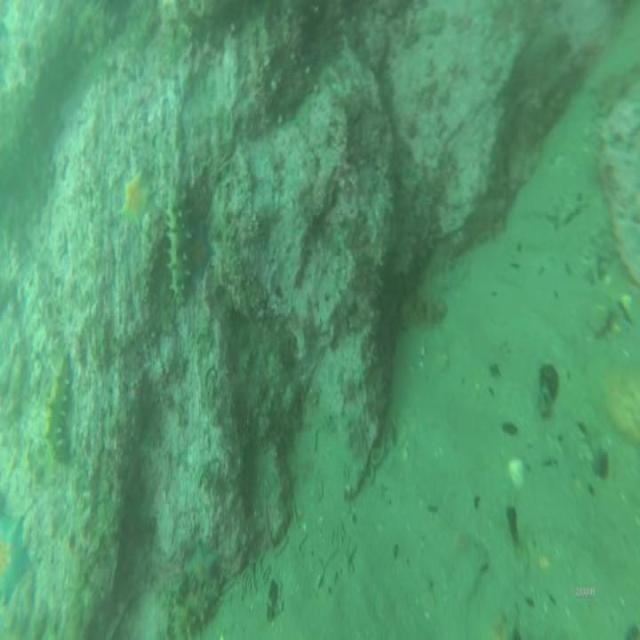holothurian: (165, 192, 192, 312), (47, 362, 70, 461)
starfish: (1, 515, 27, 602), (117, 177, 153, 231), (186, 546, 215, 592)
